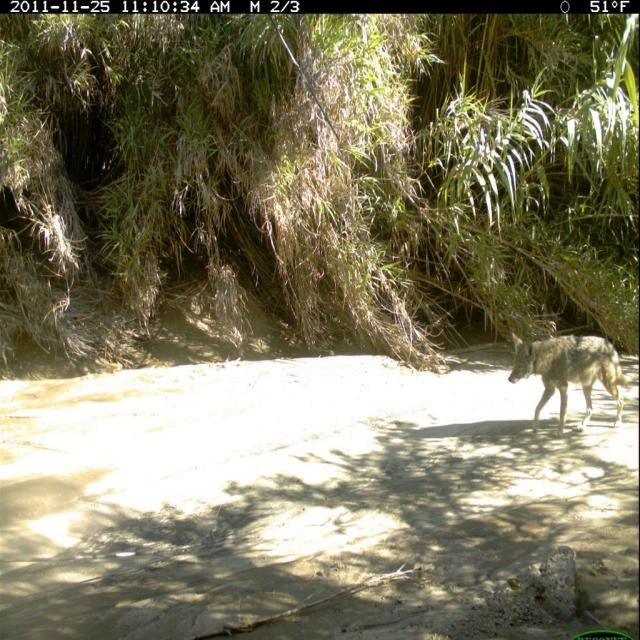coyote: (502, 322, 634, 443)
